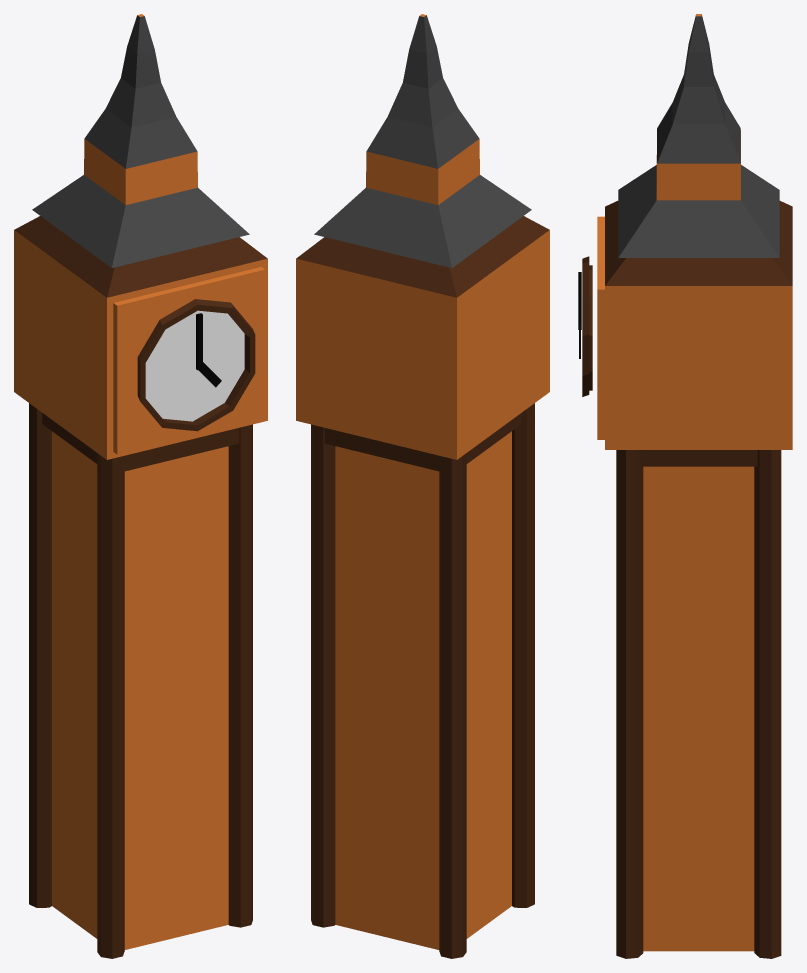
Rendered from BigBen.fbx.
The picture shows the model from 3 angles, left to right: view 1: azimuth 30°, elevation 25°; view 2: azimuth 150°, elevation 25°; view 3: azimuth 270°, elevation 25°; orthographic projection.
Visible parts, largest first — view 1: BIGBEN, clock; view 2: BIGBEN; view 3: BIGBEN, clock.
Part boxes in pixels (x1,y1,x2,y2): BIGBEN: (14, 14, 267, 958); clock: (137, 299, 255, 431); BIGBEN: (296, 14, 549, 958); BIGBEN: (597, 14, 792, 958); clock: (578, 256, 592, 396).
Bounding box in the file's own units: 145 × 774 × 166.
